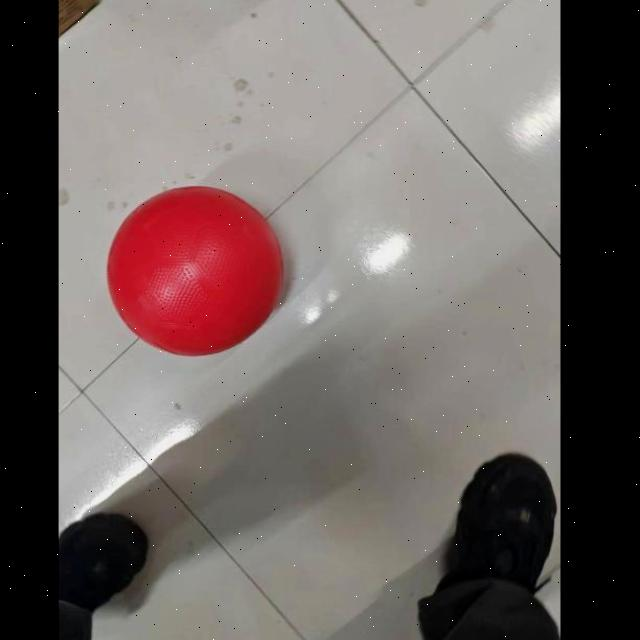R: (100, 178, 292, 362)
